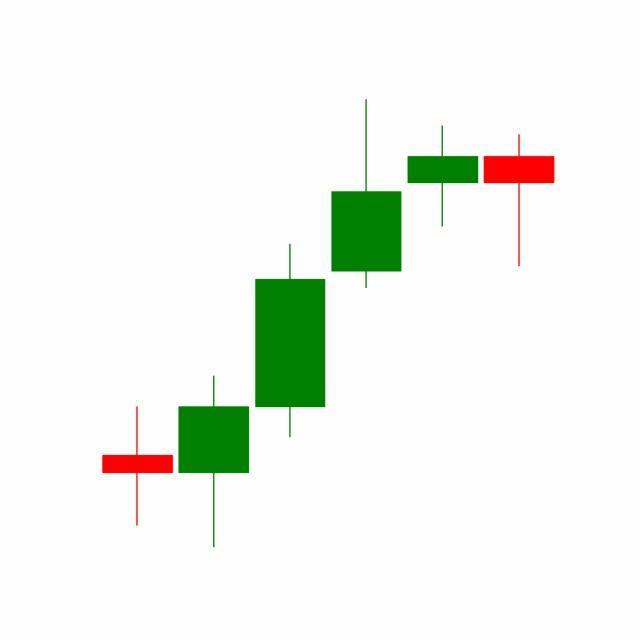Advance Block: (252, 99, 482, 443)
